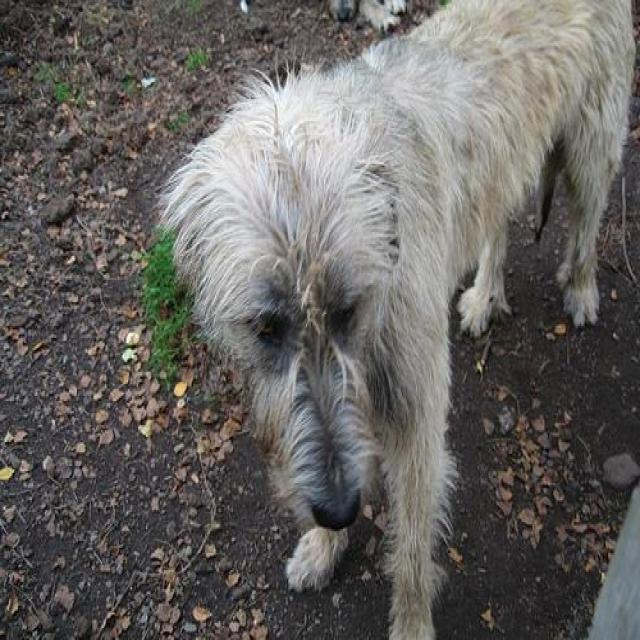irish_wolfhound: (159, 0, 635, 638)
